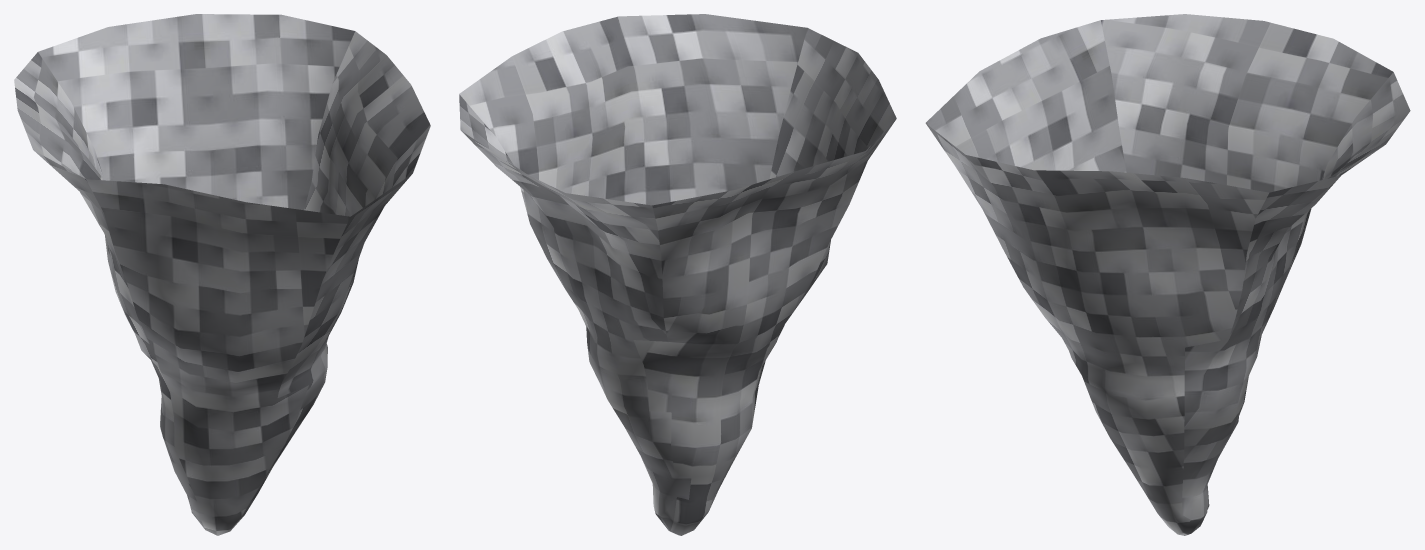
The model's file is Stalactite 01.fbx.
3 renders of one model, left to right at view 1: azimuth 30°, elevation 25°; view 2: azimuth 150°, elevation 25°; view 3: azimuth 270°, elevation 25°, orthographic.
Parts seen in each view (by area): view 1: Stalactite.001; view 2: Stalactite.001; view 3: Stalactite.001.
Boxes of the visible parts, left/top/right/bottom form: Stalactite.001: left=14, top=14, right=430, bottom=535; Stalactite.001: left=459, top=14, right=896, bottom=535; Stalactite.001: left=925, top=14, right=1410, bottom=535.
Bounding box in the file's own units: 1.8 × 1.8 × 1.56.
